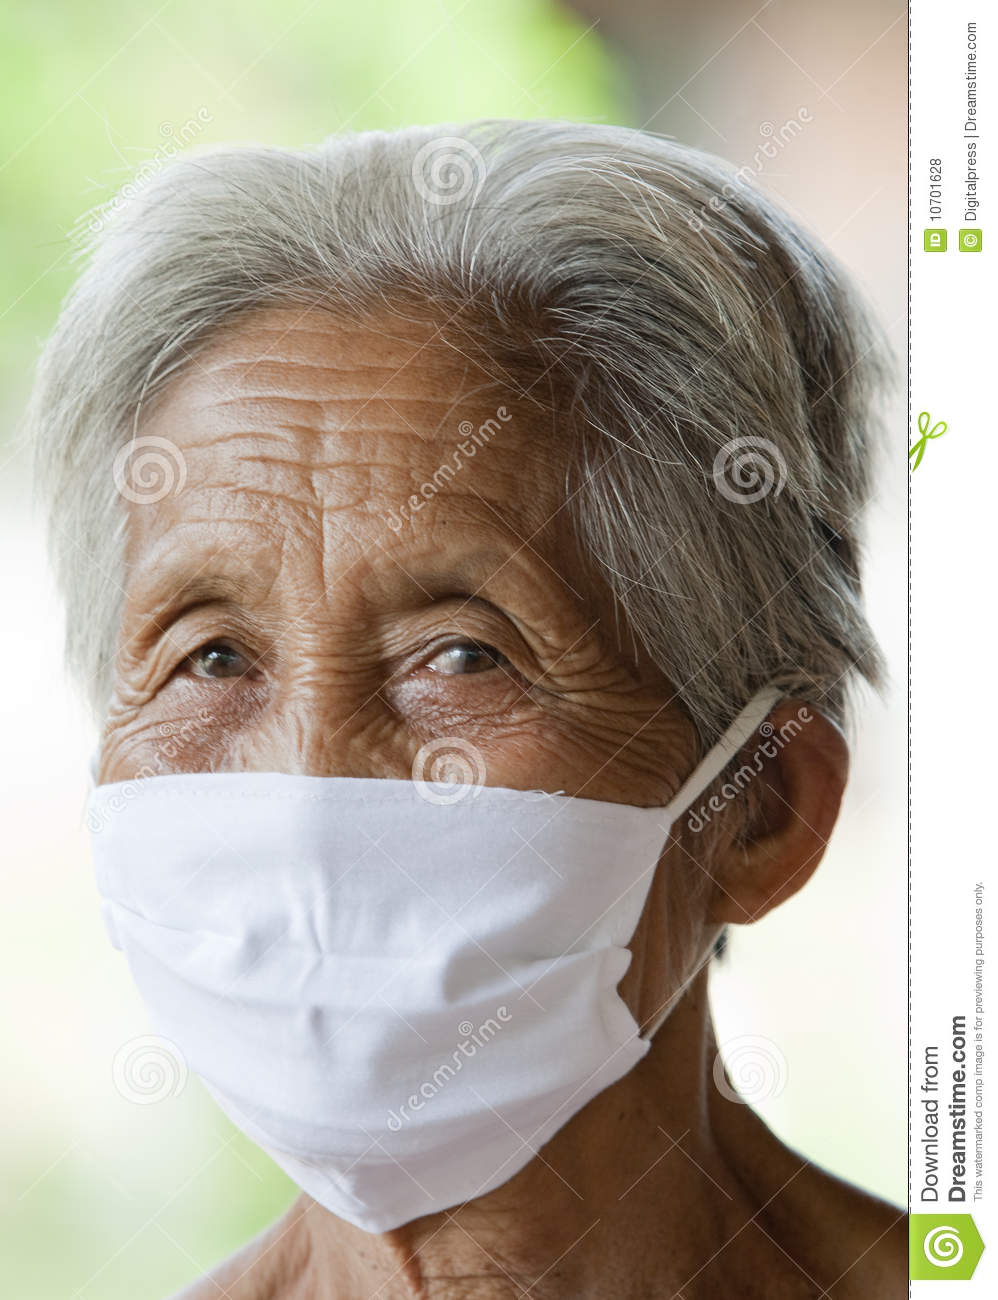mask: (88, 767, 677, 1229)
